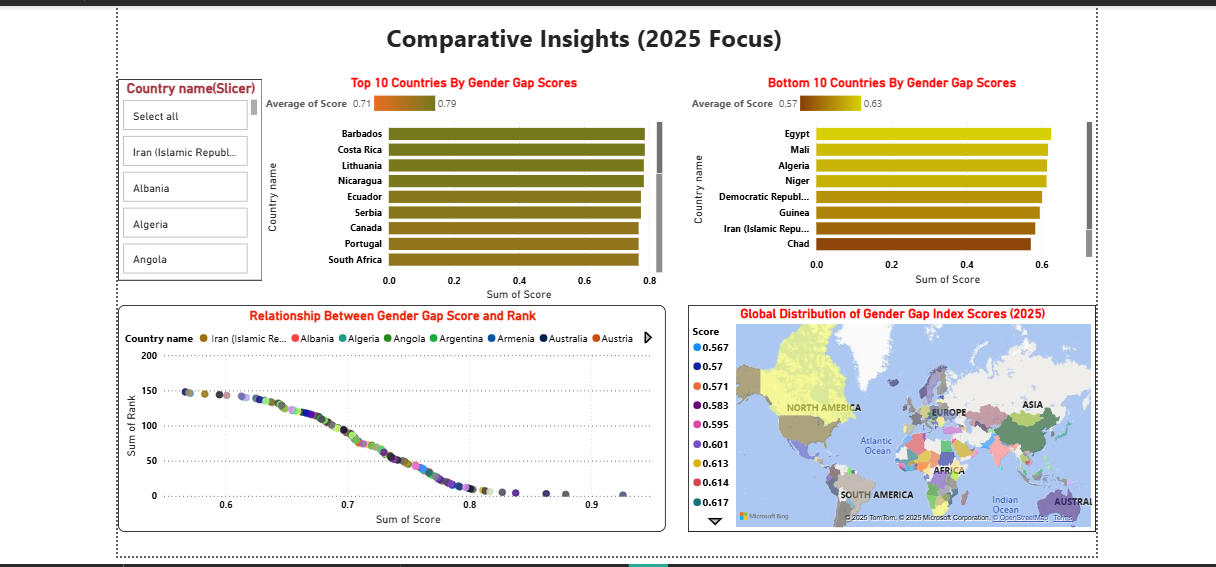

The page's visual inventory and layout, read from the dashboard file:
{"tool":"powerbi","page":{"name":"Comparative Insights (2025 Focus)","canvas":[1280,720],"ordinal":1},"visuals":[{"type":"advancedSlicerVisual","title":"Country name(Slicer)","fields":{"Values":["global-gender-gap-index-rank-an.Country name"]},"box":[0,95.6,188.5,264.4],"z":0},{"type":"clusteredBarChart","title":"Top 10 Countries By Gender Gap Scores","fields":{"Y":["Sum(global-gender-gap-index-rank-an.Score)"],"Category":["global-gender-gap-index-rank-an.Country name"]},"box":[188.1,90.7,529.1,300.7],"z":1},{"type":"clusteredBarChart","title":"Bottom 10 Countries By Gender Gap Scores","fields":{"Y":["Sum(global-gender-gap-index-rank-an.Score)"],"Category":["global-gender-gap-index-rank-an.Country name"]},"box":[745.8,90.7,534.2,280.5],"z":2},{"type":"textbox","box":[0,13.4,1221.2,55.4],"z":3},{"type":"scatterChart","title":"Relationship Between Gender Gap Score and Rank ","fields":{"X":["Sum(global-gender-gap-index-rank-an.Score)"],"Y":["Sum(global-gender-gap-index-rank-an.Rank)"],"Category":["global-gender-gap-index-rank-an.Country name"],"Series":["global-gender-gap-index-rank-an.Country name"]},"box":[0,391.4,717.4,297.2],"z":4},{"type":"filledMap","title":"Global Distribution of Gender Gap Index Scores (2025)","fields":{"Category":["global-gender-gap-index-rank-an.Country name"],"Series":["global-gender-gap-index-rank-an.Score"]},"box":[746.4,390.9,533.4,296.8],"z":5}]}

Visuals, with their boxes on the page's 1280x720 design canvas (x1, y1, x2, y2). These are canvas units, not pixel positions in the 1216x567 screenshot, which may show the page scaled, cropped or inside an application window:
"Country name(Slicer)" advancedSlicerVisual: [0, 96, 188, 360]
"Top 10 Countries By Gender Gap Scores" clusteredBarChart: [188, 91, 717, 391]
"Bottom 10 Countries By Gender Gap Scores" clusteredBarChart: [746, 91, 1280, 371]
textbox: [0, 13, 1221, 69]
"Relationship Between Gender Gap Score and Rank " scatterChart: [0, 391, 717, 689]
"Global Distribution of Gender Gap Index Scores (2025)" filledMap: [746, 391, 1280, 688]
